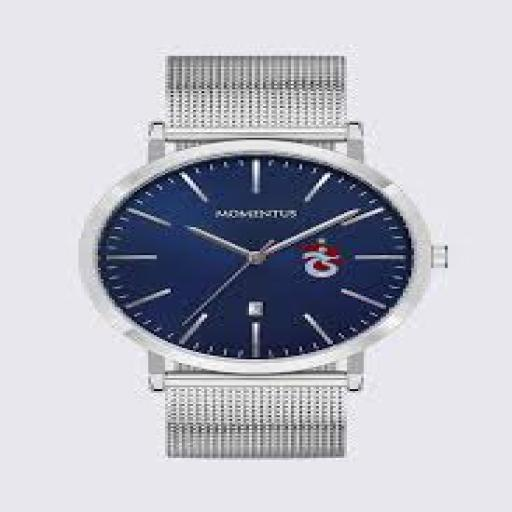KolSaati: (68, 48, 479, 482)
